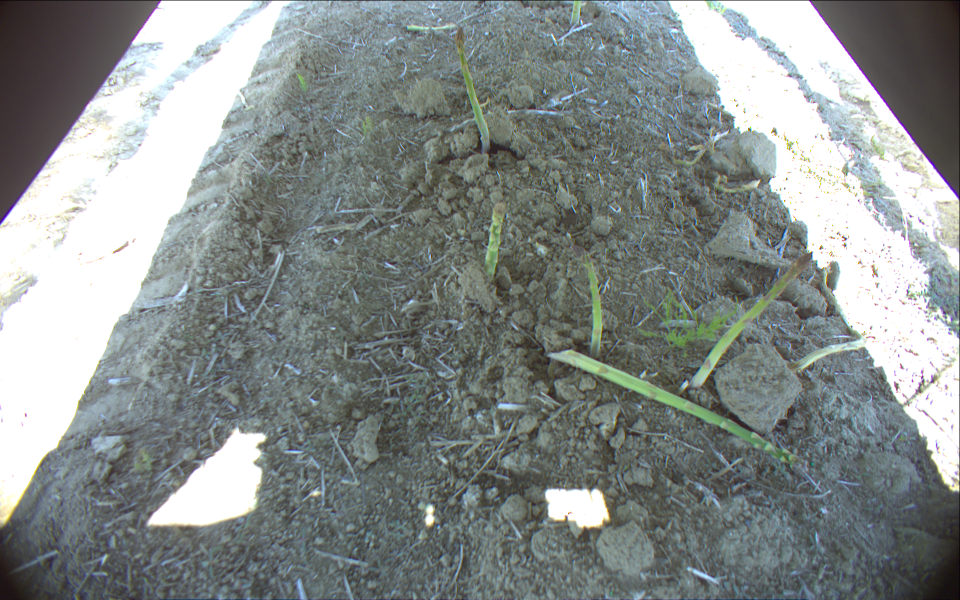aspa: (549, 349, 808, 469), (688, 250, 816, 389), (790, 266, 868, 371), (458, 28, 491, 152), (574, 245, 602, 358), (487, 200, 507, 277), (408, 22, 455, 32), (570, 1, 581, 26)
